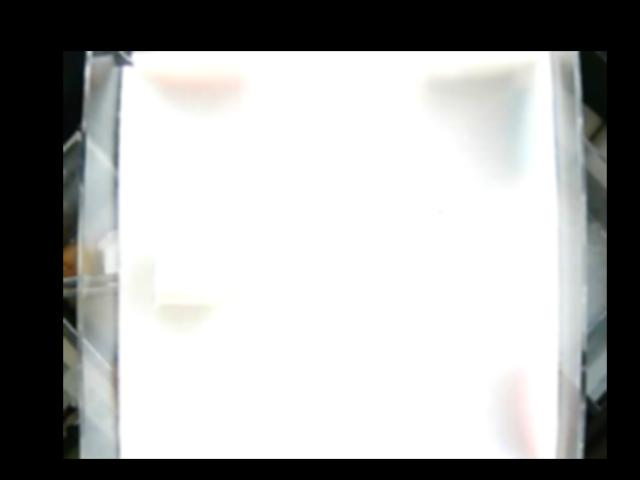Cup: (150, 215, 245, 307)
